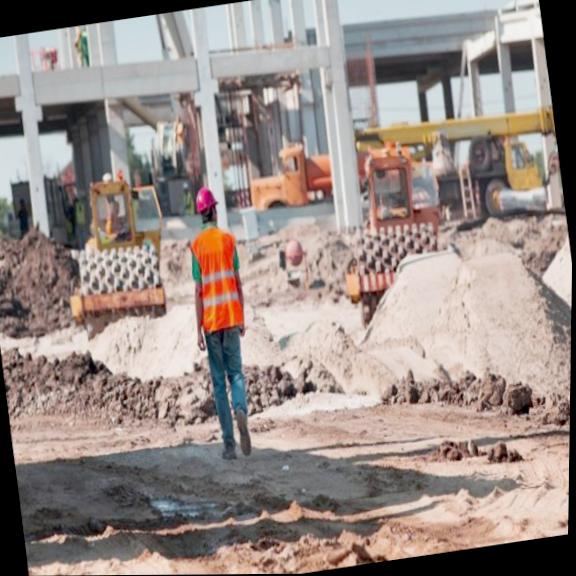safety_vest: (181, 215, 250, 341)
